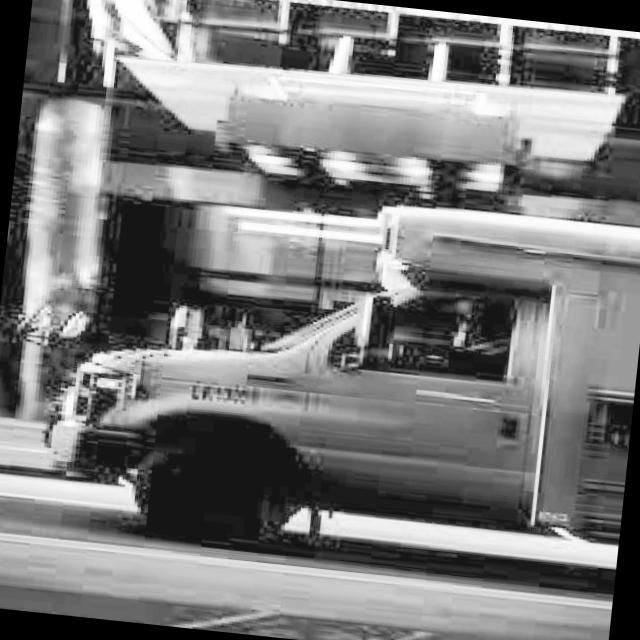Truck: (35, 163, 640, 582)
